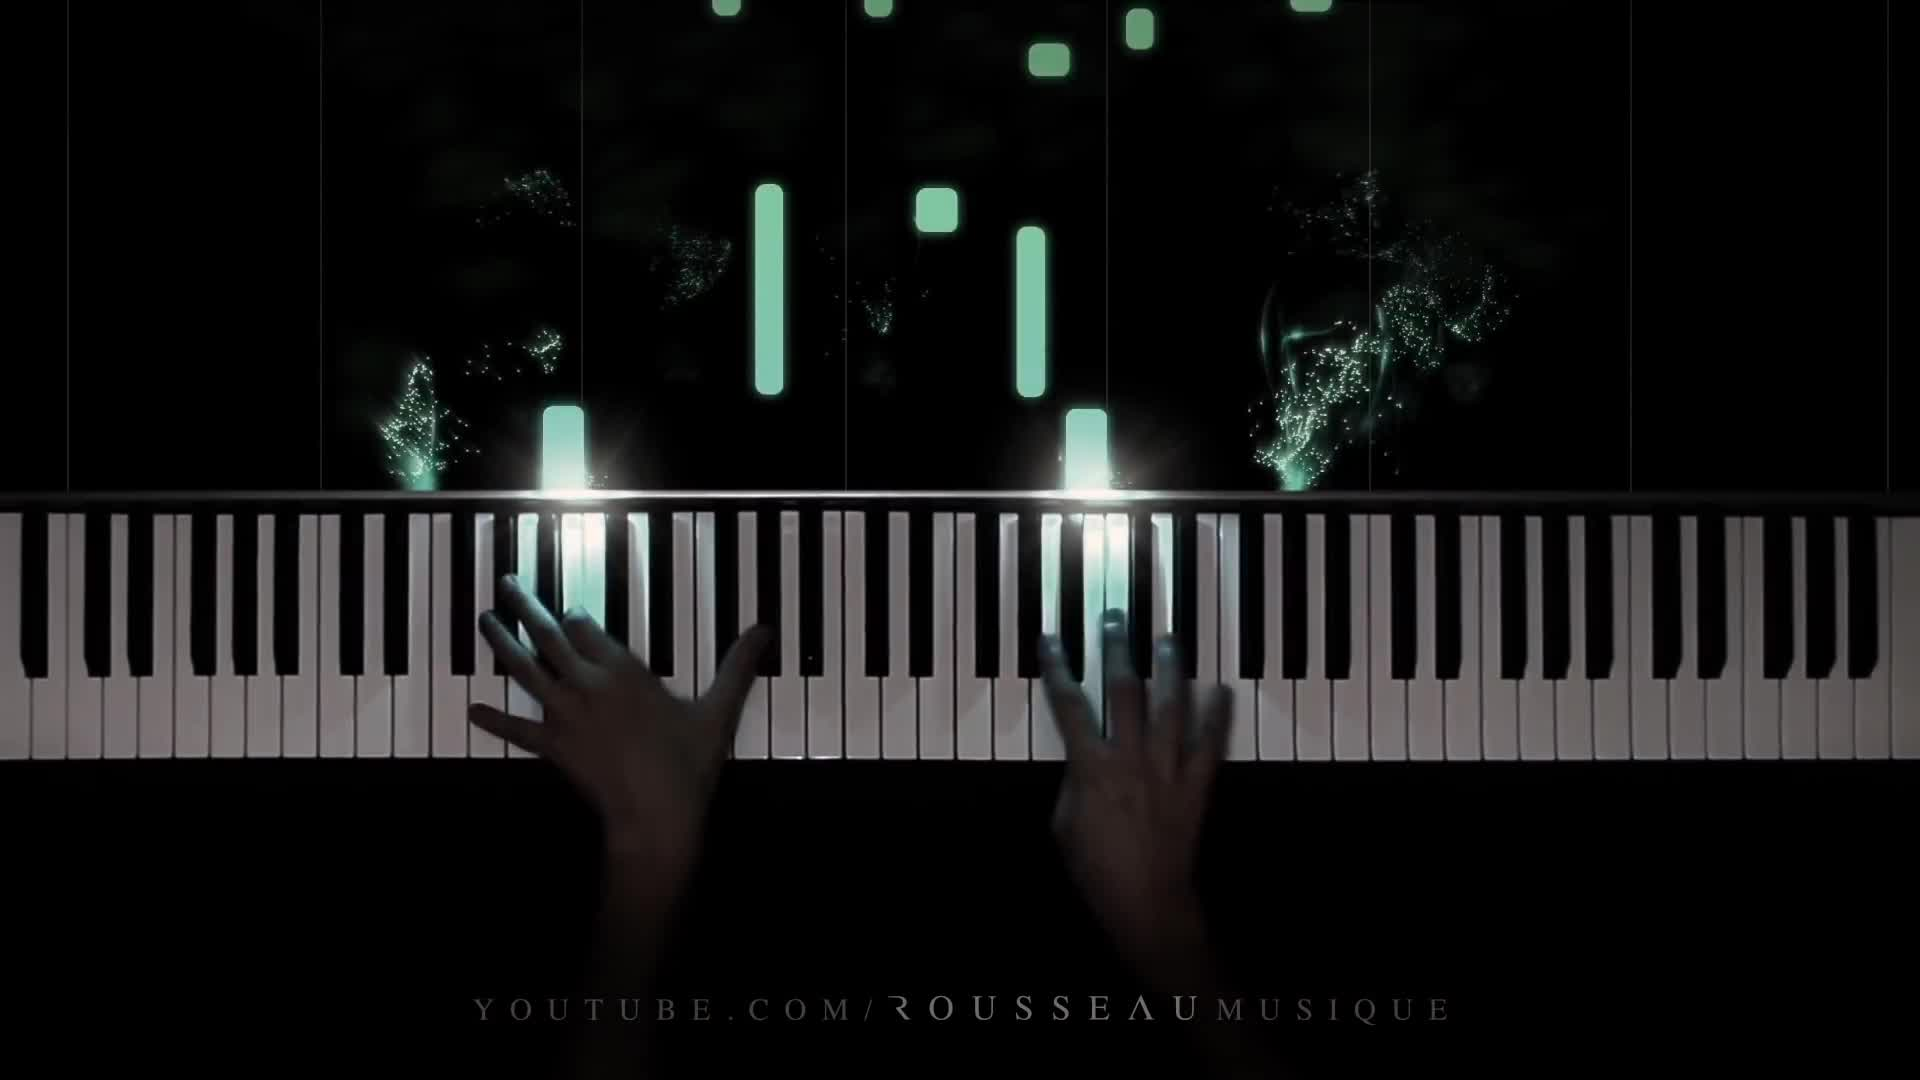left: (465, 572, 771, 816)
right: (1031, 607, 1233, 895)
